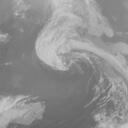cyclone: (35, 9, 103, 72)
